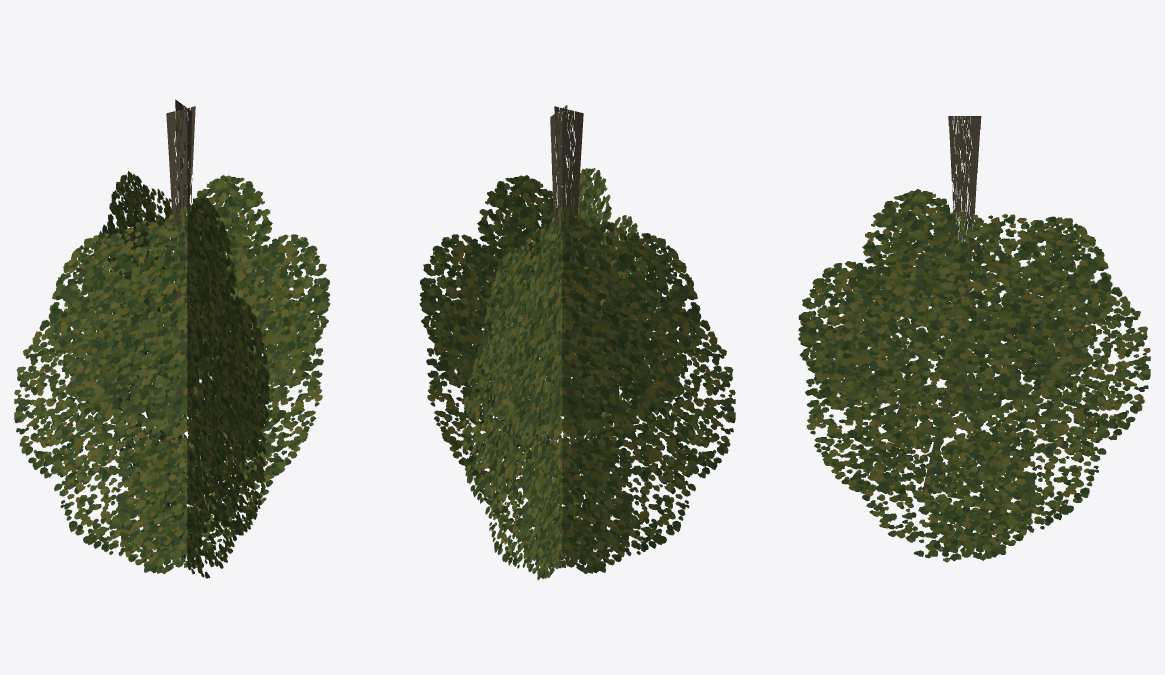
File: PROJECT_Z_Temperate_Oak_Tree_BILLBOARD.glb
3 views of the same model, side by side, from view 1: azimuth 30°, elevation 25°; view 2: azimuth 150°, elevation 25°; view 3: azimuth 270°, elevation 25° (orthographic). The views are drawn at different scales.
Visible parts, largest first — view 1: BILLBOARD_1_CrossPlane, BILLBOARD_2_CrossPlane; view 2: BILLBOARD_1_CrossPlane, BILLBOARD_2_CrossPlane; view 3: BILLBOARD_2_CrossPlane.
Boxes of the visible parts, x1,y1,x2,y2 form: BILLBOARD_1_CrossPlane: (14,106,330,573); BILLBOARD_2_CrossPlane: (89,99,269,578); BILLBOARD_1_CrossPlane: (419,106,735,573); BILLBOARD_2_CrossPlane: (462,105,642,580); BILLBOARD_2_CrossPlane: (798,116,1150,562).
Size of the model in its own units: 7.7 by 10.64 by 7.7.
Materials: 1 (1 with a texture image).
